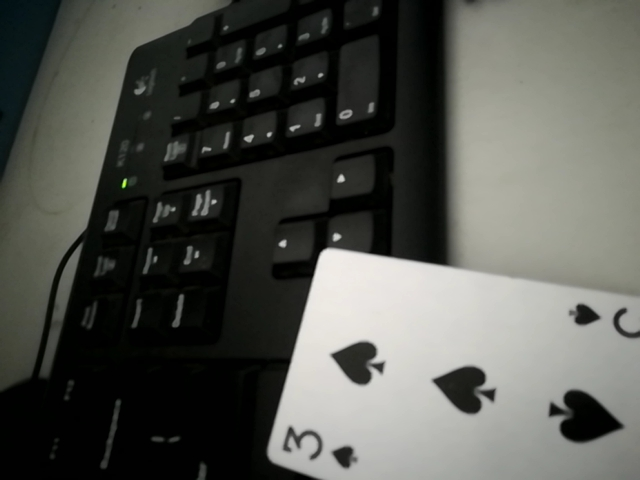ht 3: (244, 238, 640, 479)
